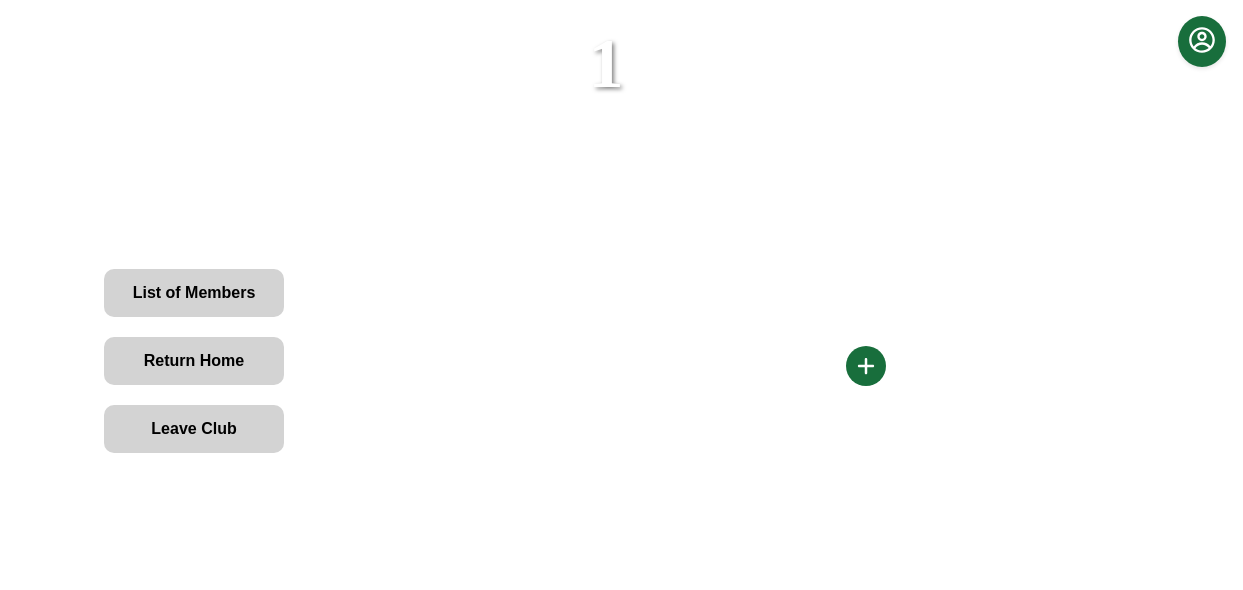
Test: Return Home button navigates to the homepage when clicked
Expected: the button "List of Members" is shown, x1=104 y1=269 x2=284 y2=317
Expected: the button "Leave Club" is shown, x1=104 y1=405 x2=284 y2=453
Click the button "Return Home" at [194, 361], box x1=104 y1=337 x2=284 y2=385
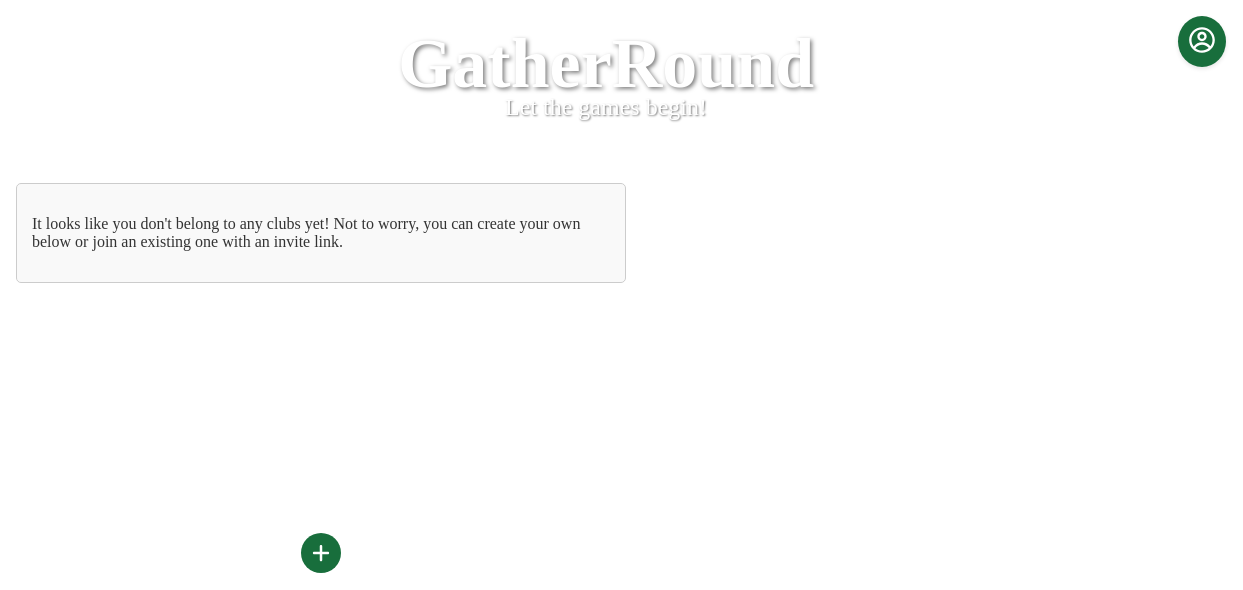
Result: the text "Let the games begin!" is shown at x1=505 y1=94 x2=707 y2=120
